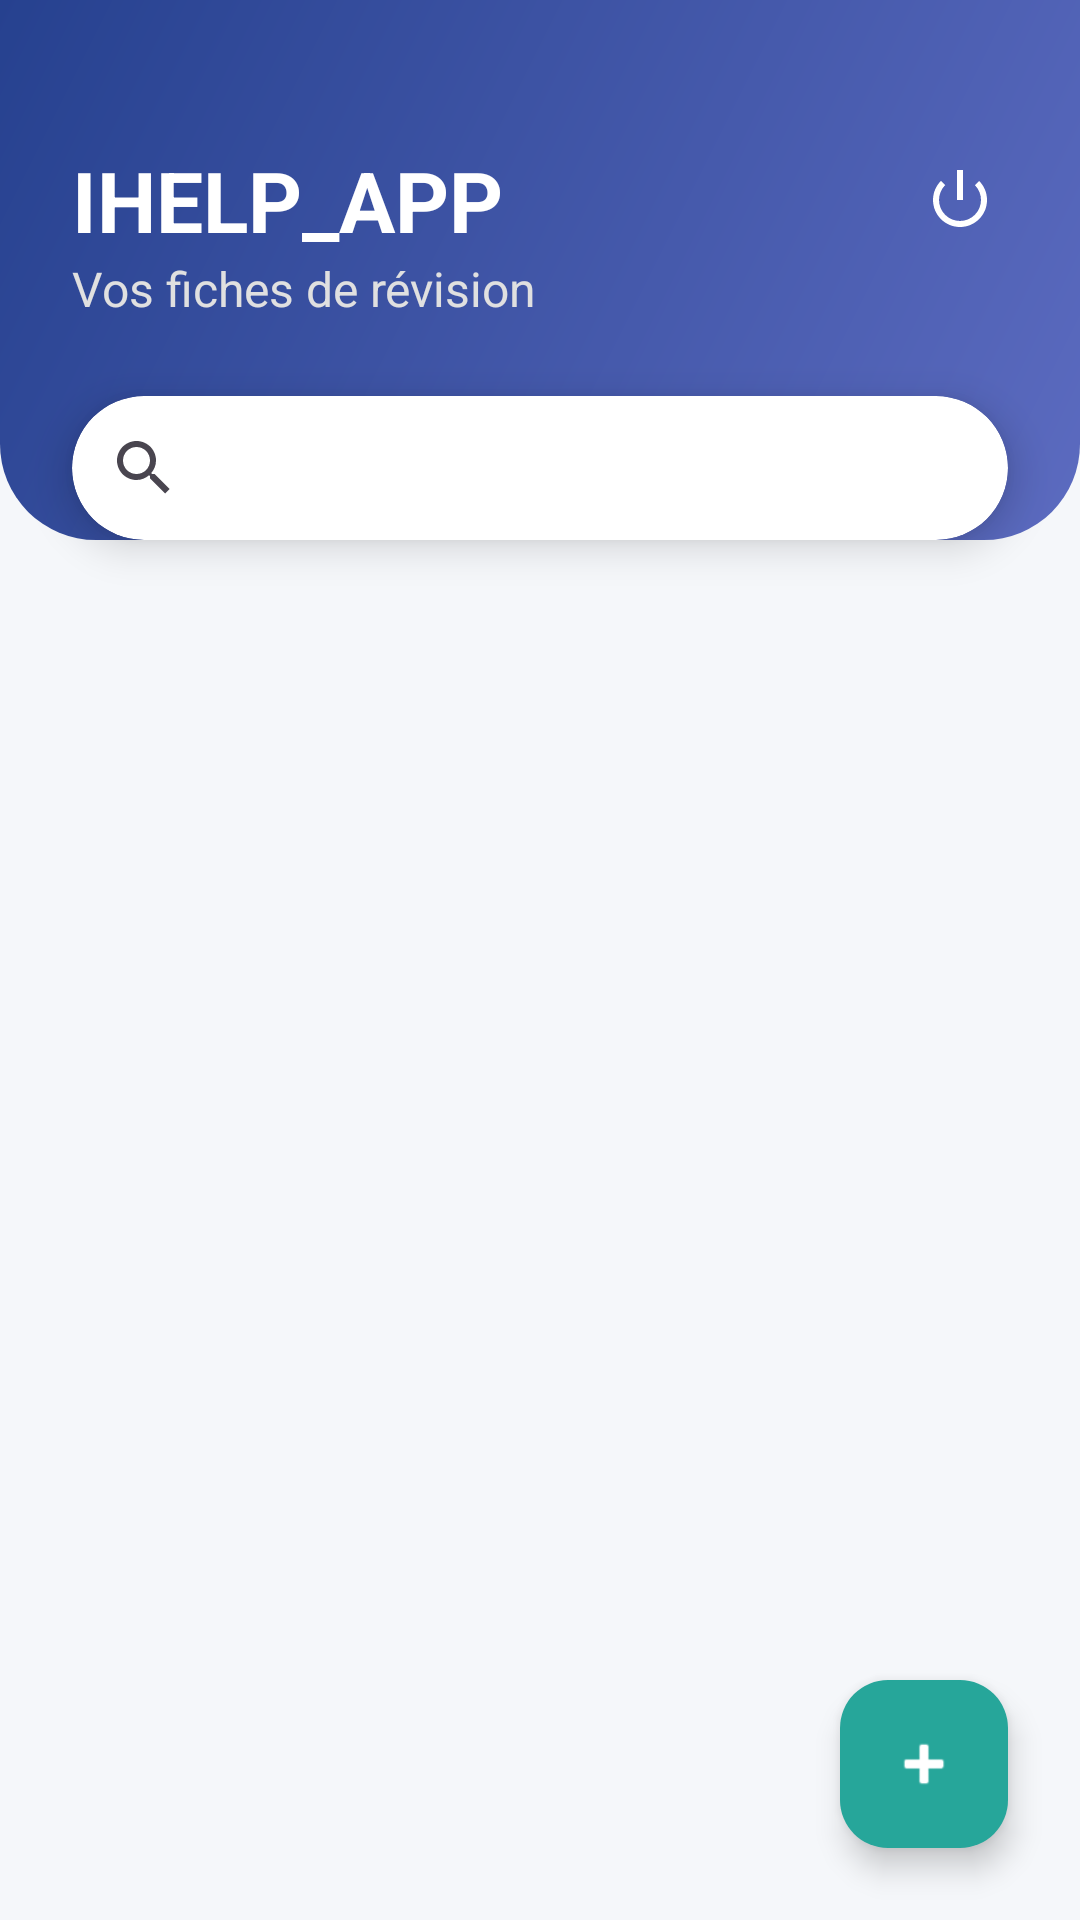

Icon click points for this 1080px x 1920px phone screenshot, format (x,y):
Ajouter une nouvelle fiche: (924,1764)
Se déconnecter: (960,198)
